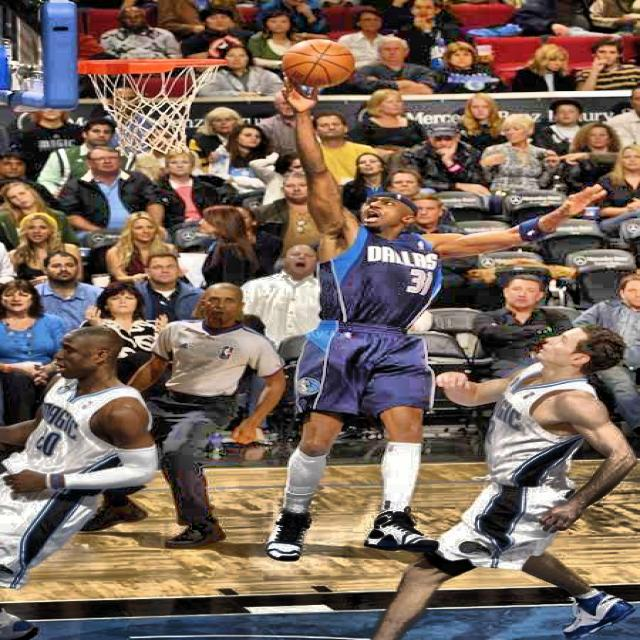board: (282, 40, 354, 88)
rim: (86, 58, 230, 154)
